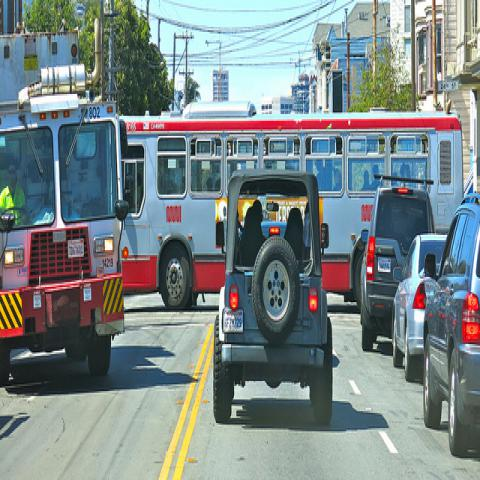bus: (119, 114, 464, 295)
car: (214, 173, 334, 424), (424, 202, 479, 453), (360, 174, 434, 352), (393, 236, 447, 381), (238, 220, 288, 239)
truck: (0, 29, 125, 385)
